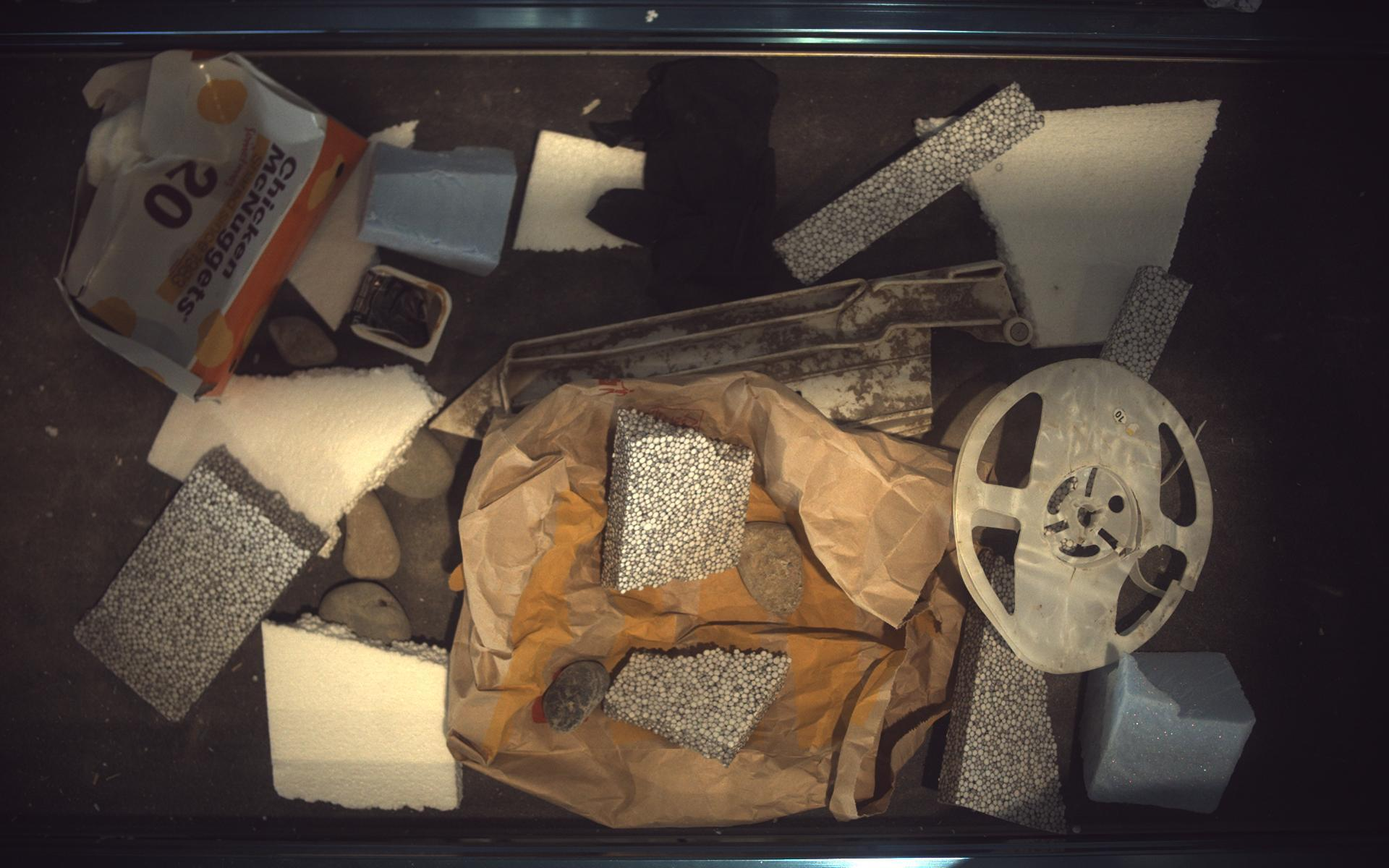foam: (72, 447, 325, 722), (967, 99, 1223, 346), (147, 365, 443, 555), (775, 82, 1047, 283), (940, 607, 1067, 835), (1084, 653, 1259, 814), (602, 409, 755, 593), (287, 119, 418, 330), (604, 648, 791, 767), (359, 144, 517, 275), (514, 129, 646, 251), (1103, 265, 1194, 380), (981, 548, 1016, 610), (917, 116, 959, 138)
general_w: (447, 372, 966, 829), (56, 49, 365, 397), (590, 57, 780, 307), (351, 264, 451, 364)
plastic: (434, 260, 1035, 437), (956, 360, 1216, 674), (942, 383, 1009, 451)
stone: (738, 522, 805, 617), (318, 582, 412, 642), (343, 492, 401, 580), (386, 429, 455, 500), (543, 662, 611, 734), (268, 315, 337, 367)
